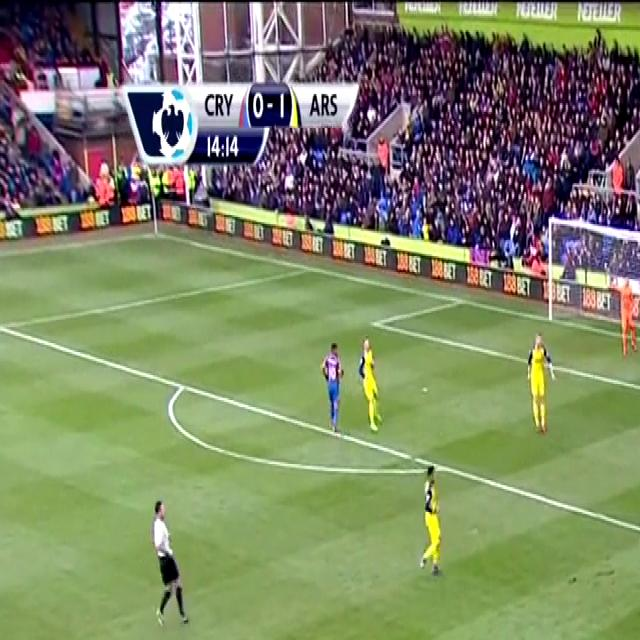goalkeeper: (613, 272, 640, 359)
referee: (140, 498, 196, 634)
soccer-player: (409, 462, 456, 585), (521, 332, 567, 446), (352, 335, 398, 442), (315, 338, 359, 442), (628, 480, 640, 617)
